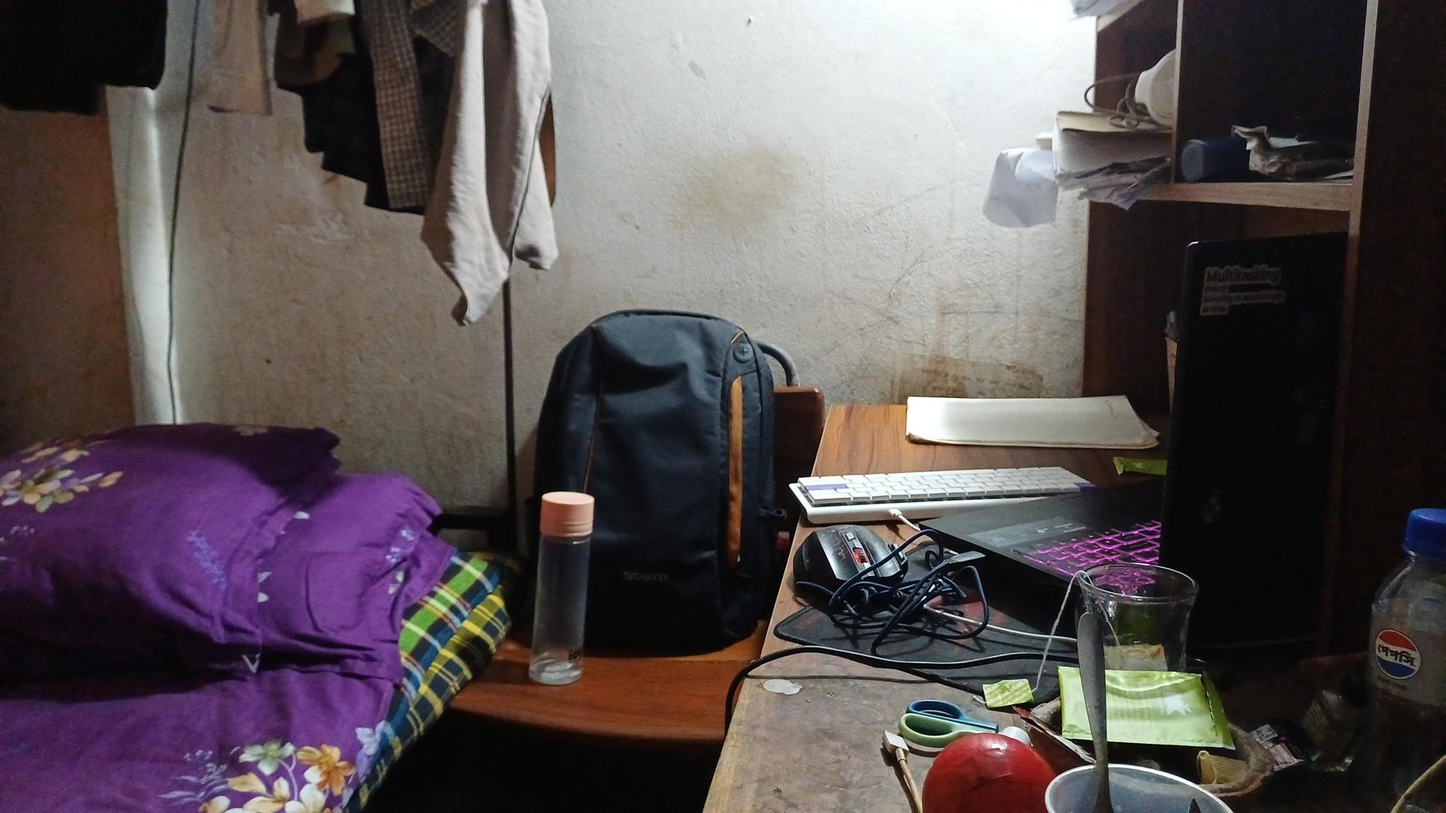Bag: (490, 267, 755, 659)
Bottle: (1371, 477, 1446, 750), (524, 483, 590, 690)
Keyboard: (778, 459, 1093, 511)
Laptop: (912, 304, 1376, 650)
Mouse: (788, 527, 943, 668)
Pillow: (18, 412, 380, 700)
